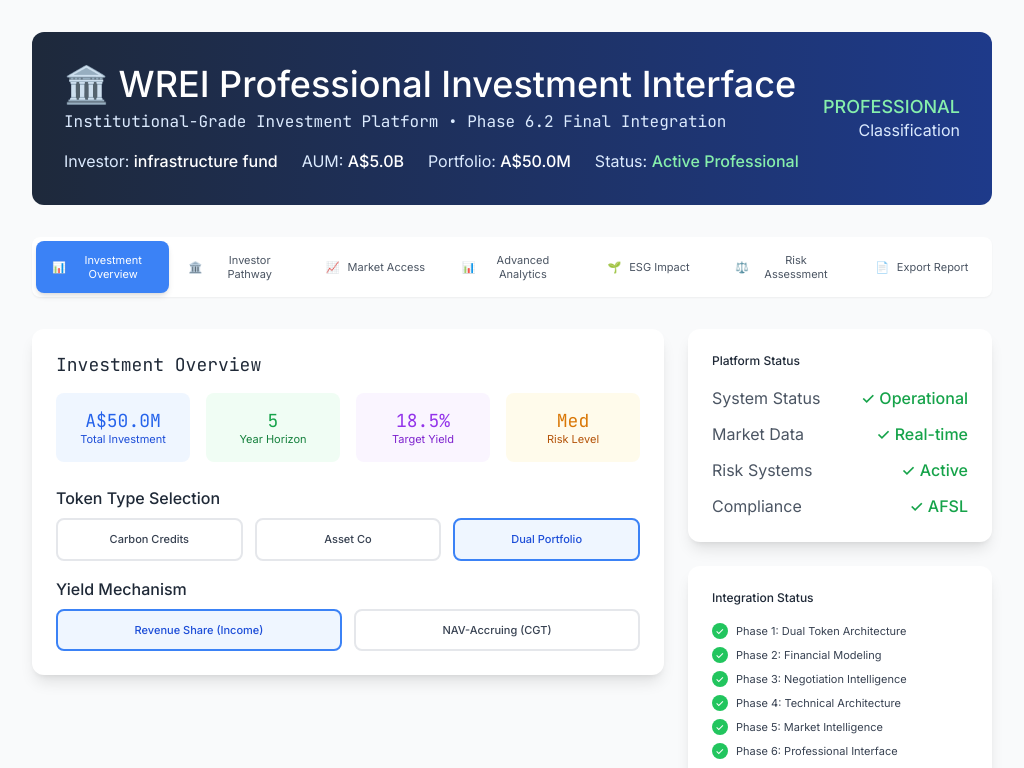
Test: Phase 6.2: Advanced Analytics › displays financial metrics
Click the text "Advanced Analytics" at (523, 267), box [497, 253, 549, 281]
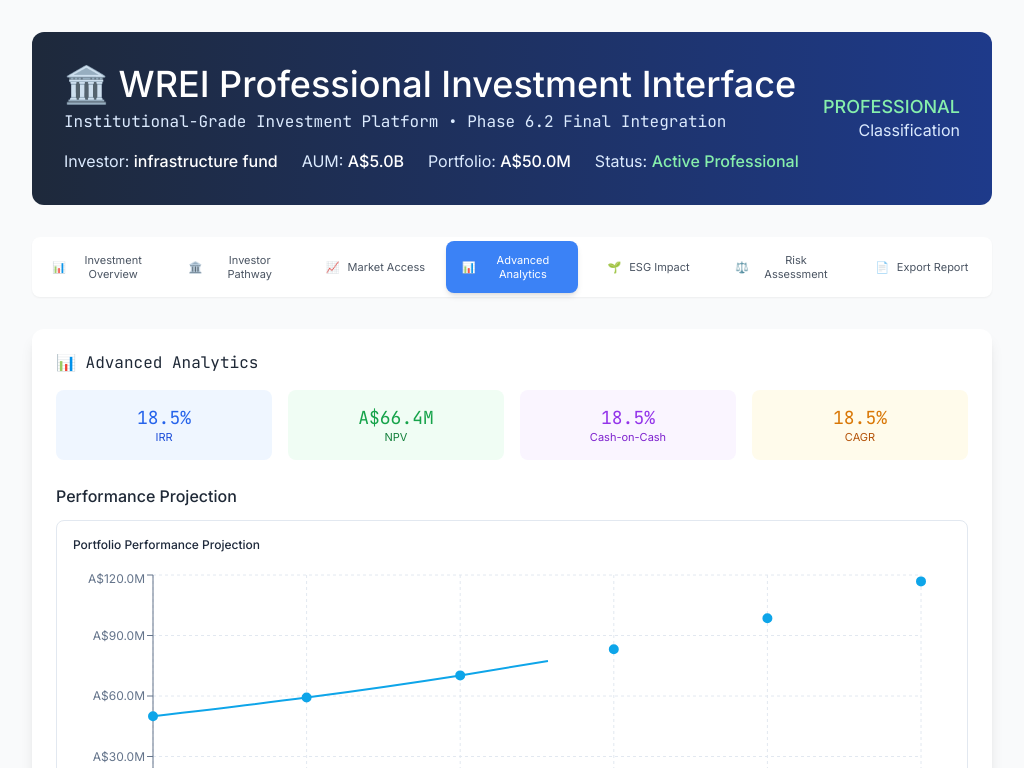
Expected: the text "IRR" is shown, [155, 430, 172, 444]
Expected: the text "NPV" is shown, [384, 430, 407, 444]
Expected: the text "Cash-on-Cash" is shown, [590, 430, 666, 444]
